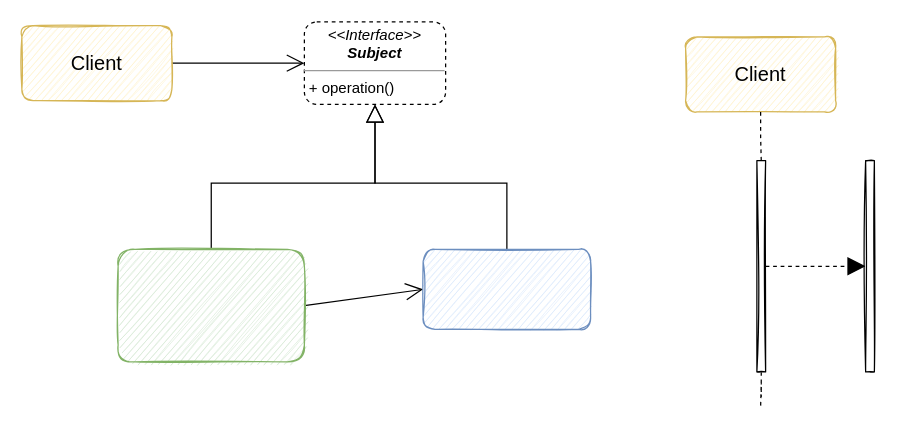
The diagram is 905 pixels wide and 430 high, and some of its shapes have lost their labels. The box of each missing label's shape, as (x1, y1, x2, y2) in pixels:
ProxySubject + realSubject: RealSubject + operation(): (117, 248, 304, 362)
RealSubject + operation(): (422, 248, 591, 329)
